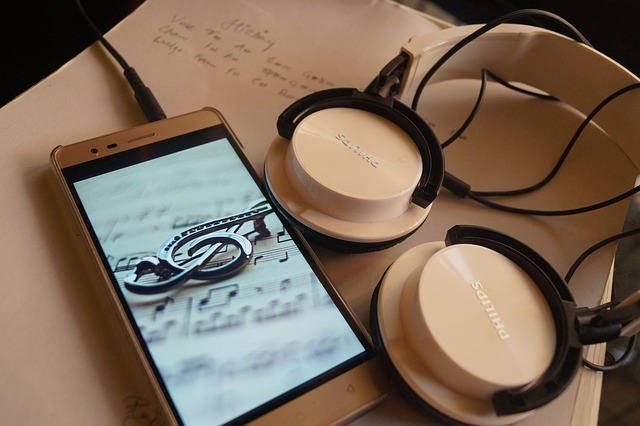headphones: (263, 24, 640, 426)
